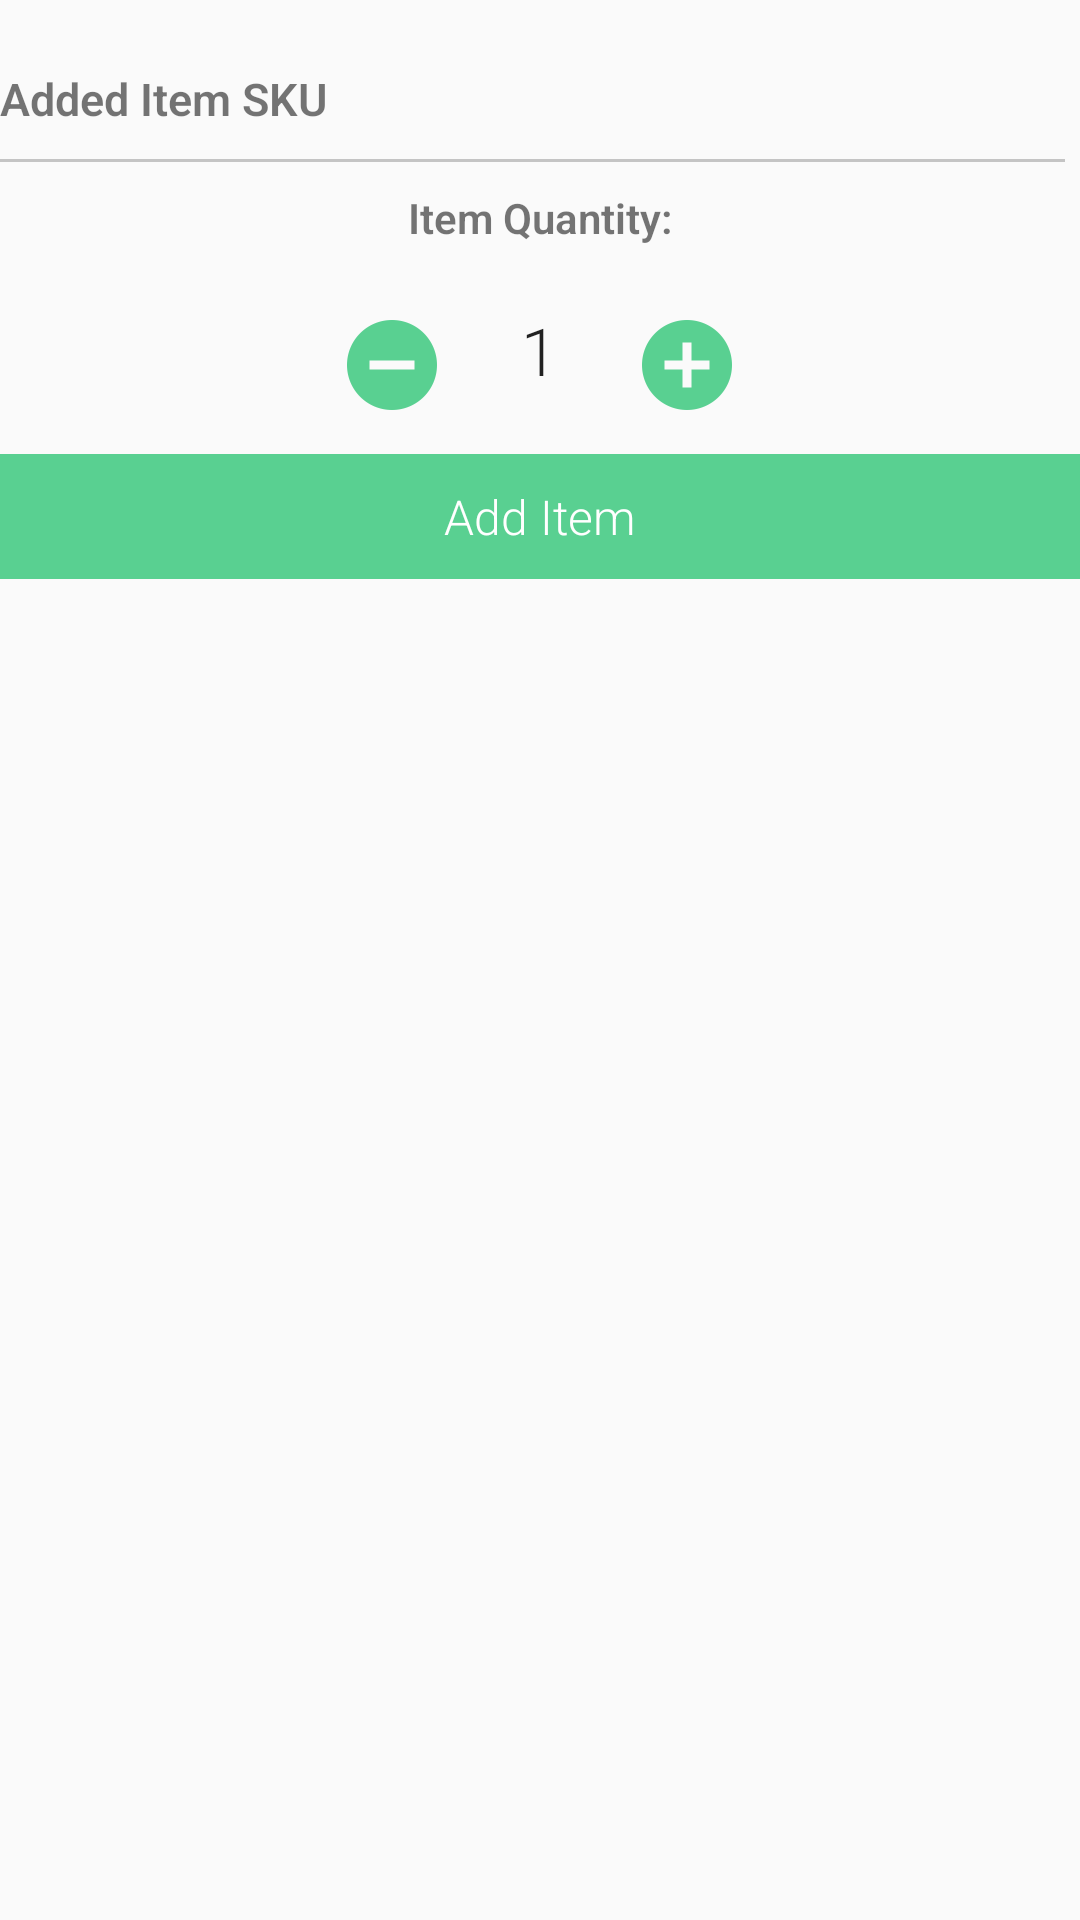

Icon bounding boxes for this 1080*1920 phone screenshot, format (left=x1, top=y1, right=x2, bottom=y2):
add circle: (left=642, top=320, right=732, bottom=410)
remove circle: (left=347, top=320, right=437, bottom=410)
